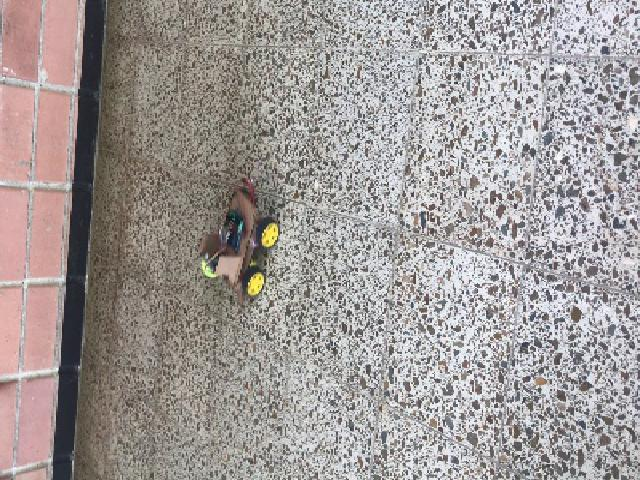Ball: (200, 260, 214, 276)
Robot: (203, 187, 280, 301)
